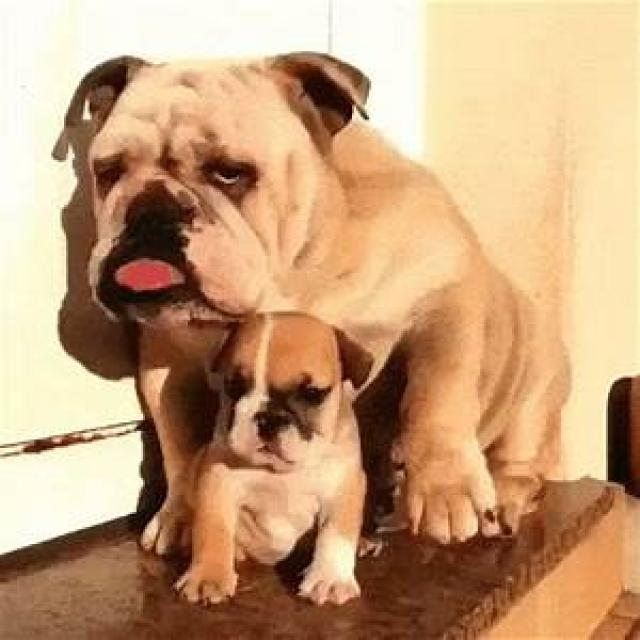dog: (55, 52, 568, 553), (176, 314, 365, 604)
